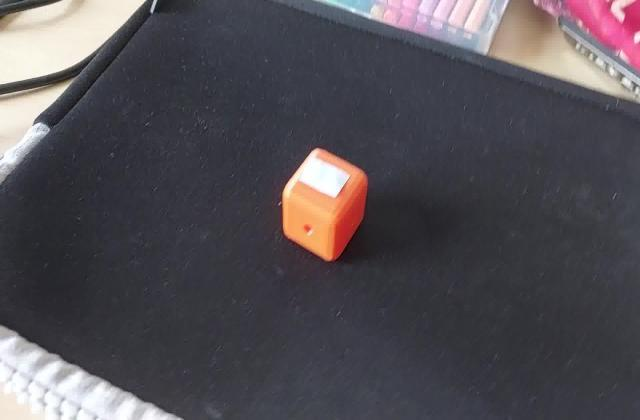sticker: (280, 144, 374, 265)
white: (304, 165, 354, 201)
